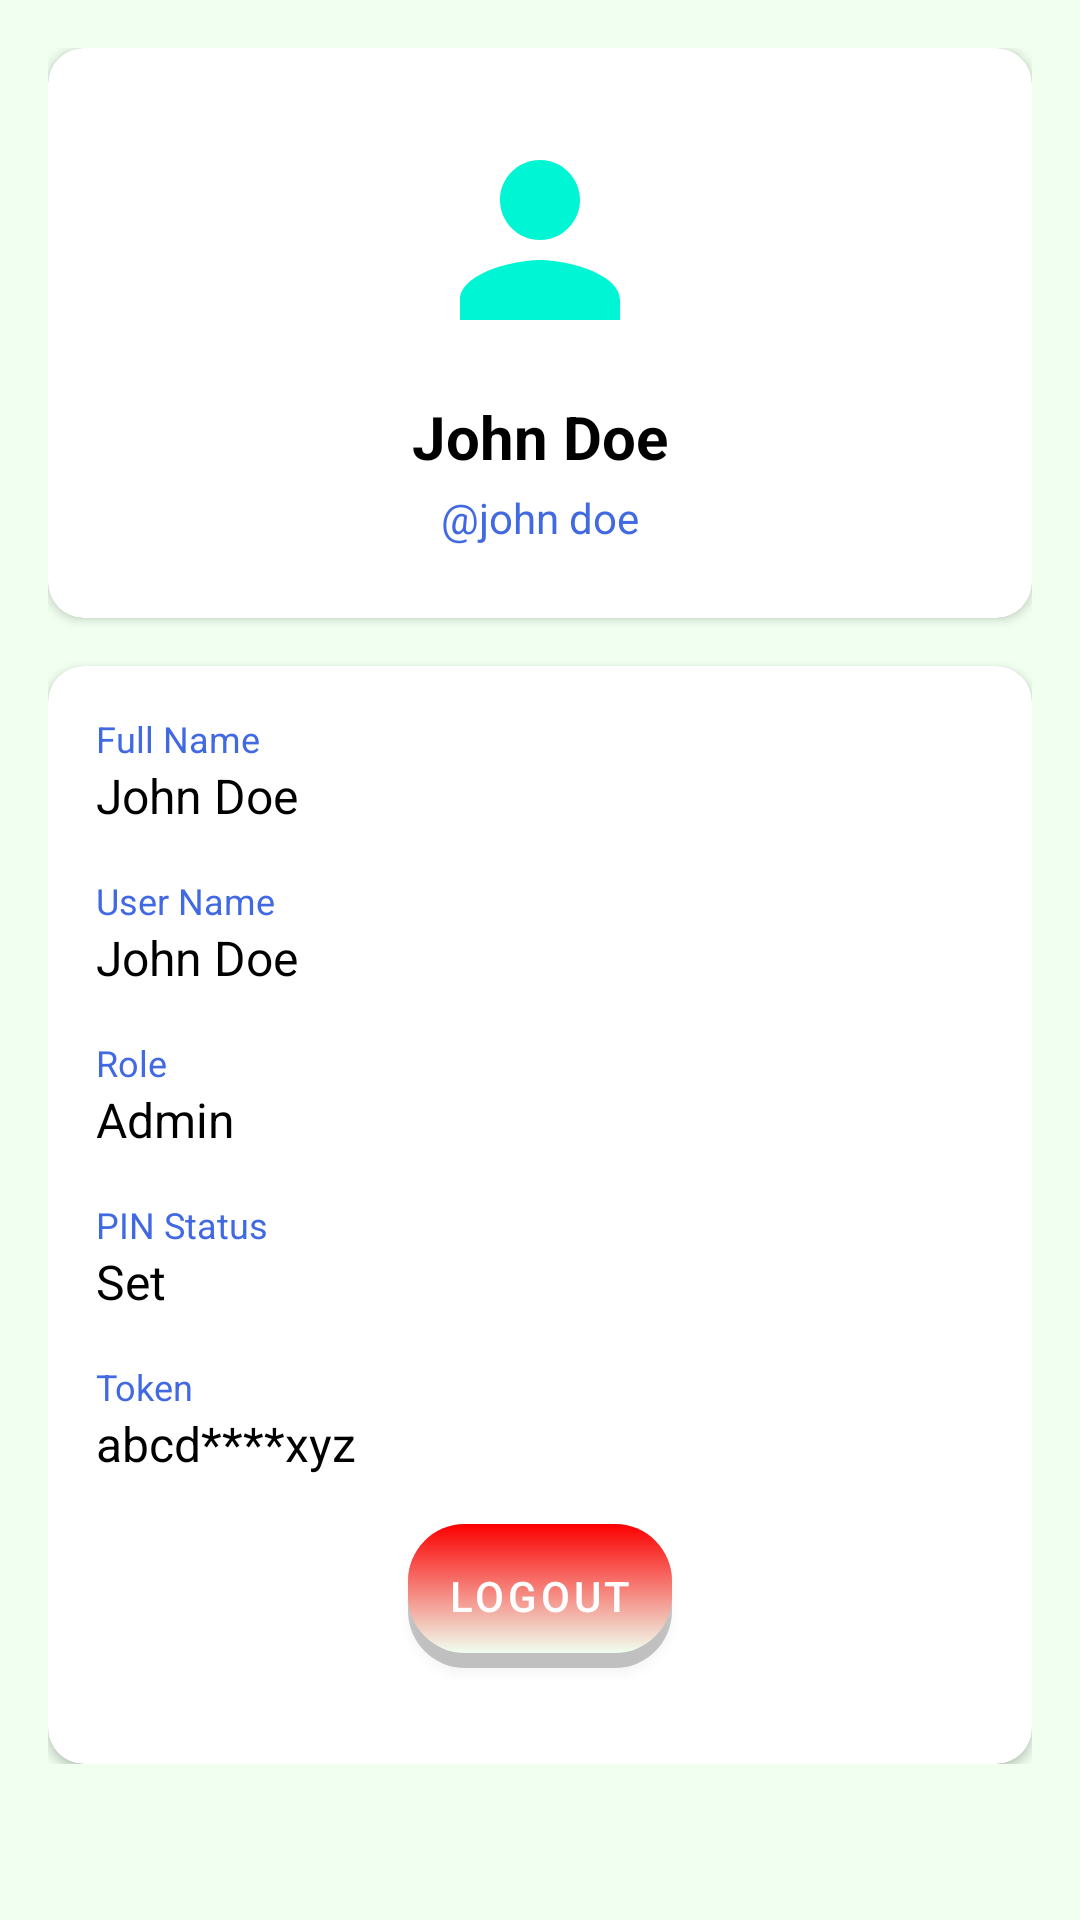

Named icons in this screenshot (1080*1920) and their bounding boxes, (x1, y1, x2, y2):
Profile Image: (460, 160, 620, 320)
